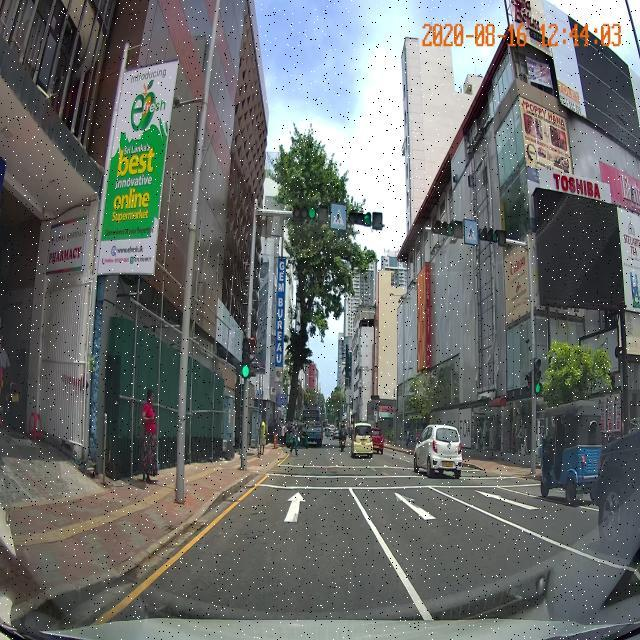forward: (207, 488, 374, 524)
